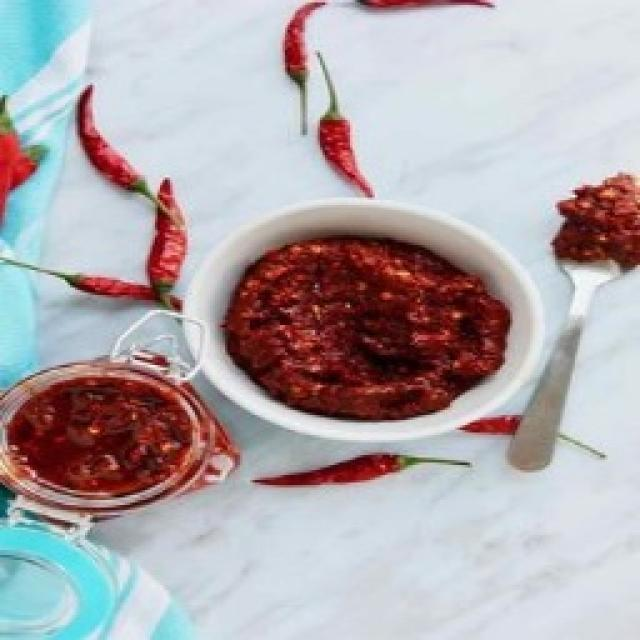Harissa: (220, 238, 515, 425), (0, 350, 238, 525)
